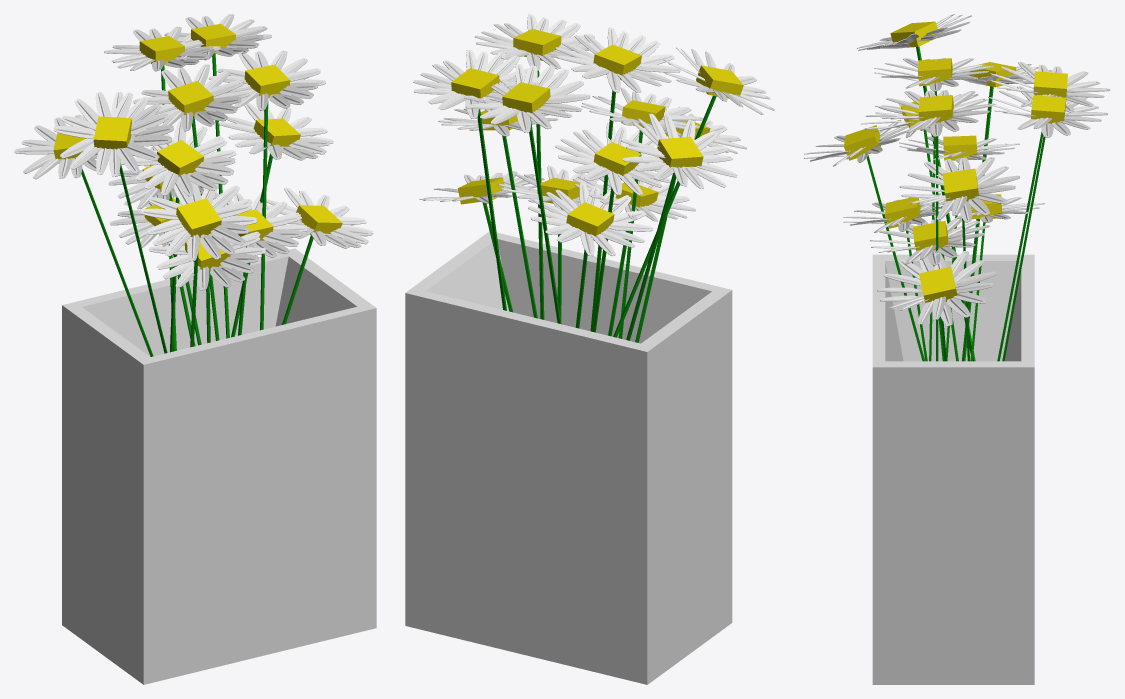
Rendered from camomila.fbx.
3 views of the same model, side by side, from view 1: azimuth 30°, elevation 25°; view 2: azimuth 150°, elevation 25°; view 3: azimuth 270°, elevation 25° (orthographic). The views are drawn at different scales.
Visible parts, largest first — view 1: coisas:vaso_com_lavanda:pCube293, coisas:vaso_com_lavanda:pCube283, coisas:vaso_com_lavanda:pCube291, coisas:vaso_com_lavanda:pCube292, coisas:vaso_com_lavanda:pCube286, coisas:vaso_com_lavanda:pCube280, coisas:vaso_com_lavanda:pCube290, coisas:vaso_com_lavanda:pCube288, coisas:vaso_com_lavanda:pCube287, coisas:vaso_com_lavanda:pCube284, coisas:vaso_com_lavanda:pCube282, coisas:vaso_com_lavanda:pCube285 (+3 smaller); view 2: coisas:vaso_com_lavanda:pCube293, coisas:vaso_com_lavanda:pCube282, coisas:vaso_com_lavanda:pCube284, coisas:vaso_com_lavanda:pCube289, coisas:vaso_com_lavanda:pCube280, coisas:vaso_com_lavanda:pCube285, coisas:vaso_com_lavanda:pCube281, coisas:vaso_com_lavanda:pCube286, coisas:vaso_com_lavanda:pCube283, coisas:vaso_com_lavanda:pCube292, coisas:vaso_com_lavanda:pCube288, coisas:vaso_com_lavanda:pCube294 (+3 smaller); view 3: coisas:vaso_com_lavanda:pCube293, coisas:vaso_com_lavanda:pCube287, coisas:vaso_com_lavanda:pCube290, coisas:vaso_com_lavanda:pCube285, coisas:vaso_com_lavanda:pCube284, coisas:vaso_com_lavanda:pCube286, coisas:vaso_com_lavanda:pCube294, coisas:vaso_com_lavanda:pCube291, coisas:vaso_com_lavanda:pCube280, coisas:vaso_com_lavanda:pCube283, coisas:vaso_com_lavanda:pCube288, coisas:vaso_com_lavanda:pCube281 (+3 smaller).
Part boxes in pixels (x1,y1,x2,y2): coisas:vaso_com_lavanda:pCube293: (62, 248, 376, 684); coisas:vaso_com_lavanda:pCube283: (53, 91, 173, 353); coisas:vaso_com_lavanda:pCube291: (140, 181, 257, 347); coisas:vaso_com_lavanda:pCube292: (120, 120, 236, 352); coisas:vaso_com_lavanda:pCube286: (208, 50, 325, 330); coisas:vaso_com_lavanda:pCube280: (133, 64, 249, 340); coisas:vaso_com_lavanda:pCube290: (218, 103, 333, 337); coisas:vaso_com_lavanda:pCube288: (149, 225, 266, 343); coisas:vaso_com_lavanda:pCube287: (266, 187, 373, 324); coisas:vaso_com_lavanda:pCube284: (104, 26, 220, 351); coisas:vaso_com_lavanda:pCube282: (14, 114, 153, 356); coisas:vaso_com_lavanda:pCube285: (164, 14, 271, 338); coisas:vaso_com_lavanda:pCube293: (405, 231, 732, 684); coisas:vaso_com_lavanda:pCube282: (620, 112, 737, 340); coisas:vaso_com_lavanda:pCube284: (464, 64, 590, 324); coisas:vaso_com_lavanda:pCube289: (528, 182, 652, 328); coisas:vaso_com_lavanda:pCube280: (555, 27, 680, 331); coisas:vaso_com_lavanda:pCube285: (413, 49, 539, 310); coisas:vaso_com_lavanda:pCube281: (555, 122, 670, 332); coisas:vaso_com_lavanda:pCube286: (475, 14, 594, 319); coisas:vaso_com_lavanda:pCube283: (613, 47, 774, 337); coisas:vaso_com_lavanda:pCube292: (581, 87, 703, 338); coisas:vaso_com_lavanda:pCube288: (573, 176, 695, 336); coisas:vaso_com_lavanda:pCube294: (497, 165, 611, 320); coisas:vaso_com_lavanda:pCube293: (872, 254, 1034, 684); coisas:vaso_com_lavanda:pCube287: (876, 251, 996, 361); coisas:vaso_com_lavanda:pCube290: (899, 157, 1019, 361); coisas:vaso_com_lavanda:pCube285: (988, 86, 1107, 361); coisas:vaso_com_lavanda:pCube284: (990, 61, 1110, 361); coisas:vaso_com_lavanda:pCube286: (875, 90, 995, 361); coisas:vaso_com_lavanda:pCube294: (870, 215, 989, 361); coisas:vaso_com_lavanda:pCube291: (804, 119, 924, 361); coisas:vaso_com_lavanda:pCube280: (874, 58, 994, 361); coisas:vaso_com_lavanda:pCube283: (856, 14, 975, 361); coisas:vaso_com_lavanda:pCube288: (843, 193, 946, 361); coisas:vaso_com_lavanda:pCube281: (899, 135, 1019, 361).
Size of the model in its own units: 861 by 1540 by 732.
